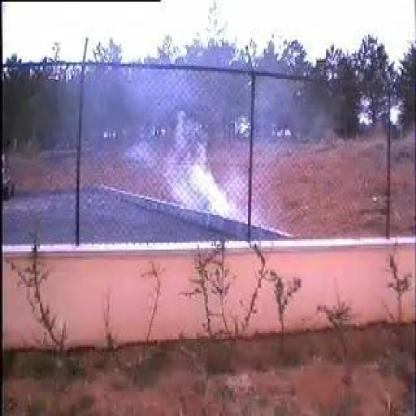-: (124, 85, 265, 217)
